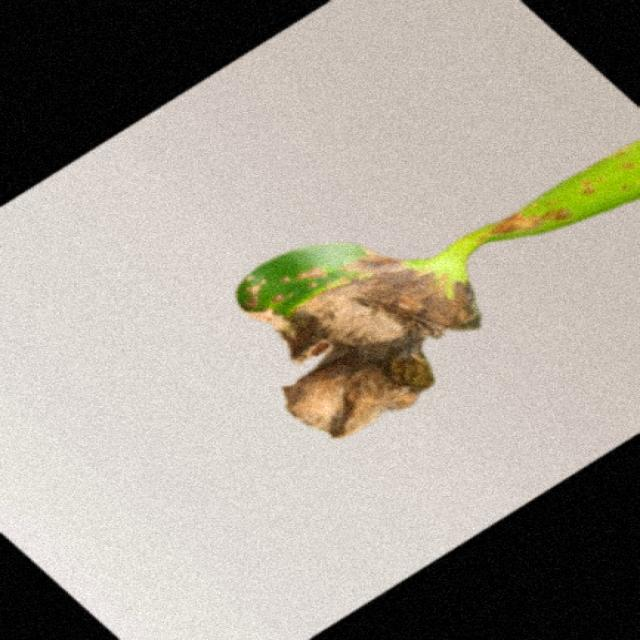daun berpenyakit karat: (237, 143, 638, 439)
